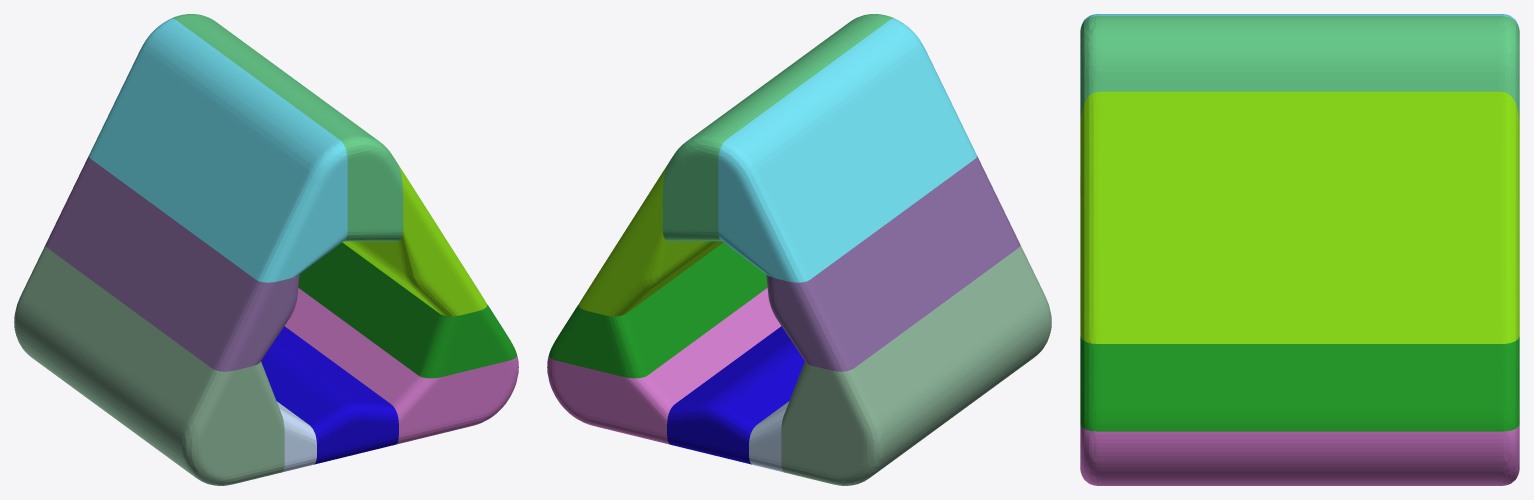
The model's file is block_coll_001.OBJ.
The picture shows the model from 3 angles, left to right: view 1: azimuth 30°, elevation 25°; view 2: azimuth 150°, elevation 25°; view 3: azimuth 270°, elevation 25°; orthographic projection. The views are drawn at different scales.
Parts seen in each view (by area): view 1: block_coll_001; view 2: block_coll_001; view 3: block_coll_001.
Part boxes in pixels (x1=…): block_coll_001: x1=14, y1=14, x2=518, y2=485; block_coll_001: x1=547, y1=14, x2=1051, y2=485; block_coll_001: x1=1080, y1=14, x2=1519, y2=485.
Size of the model in its own units: 0.0163 by 0.0148 by 0.0152.
